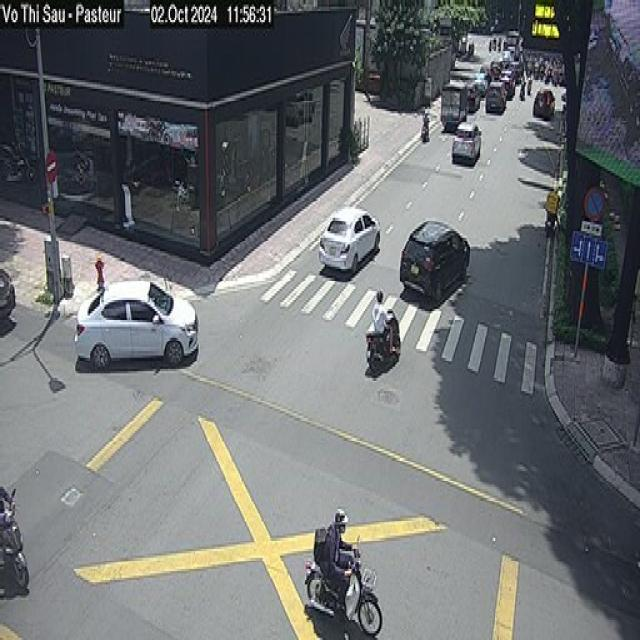car: (74, 287, 198, 367), (396, 223, 470, 307), (316, 209, 382, 277), (453, 116, 481, 168), (0, 256, 18, 326), (485, 80, 506, 119), (534, 83, 554, 123)
motorcycle: (302, 548, 386, 637), (0, 503, 31, 591), (363, 330, 403, 374), (544, 210, 554, 238), (420, 120, 430, 143)
person: (328, 506, 349, 625), (374, 289, 388, 357), (550, 176, 559, 222), (424, 105, 429, 127)
truck: (443, 74, 468, 130)
